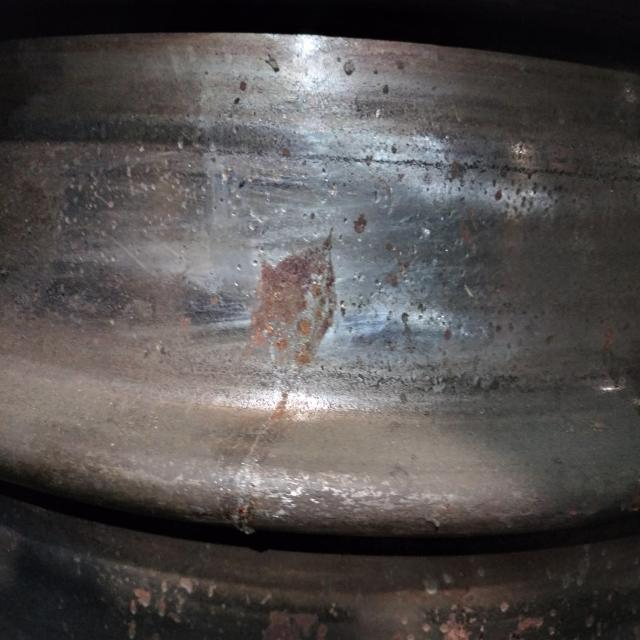Contact_Fatigue_Cracks: (354, 358, 553, 400)
Out_Of_Roundness: (227, 425, 277, 553)
